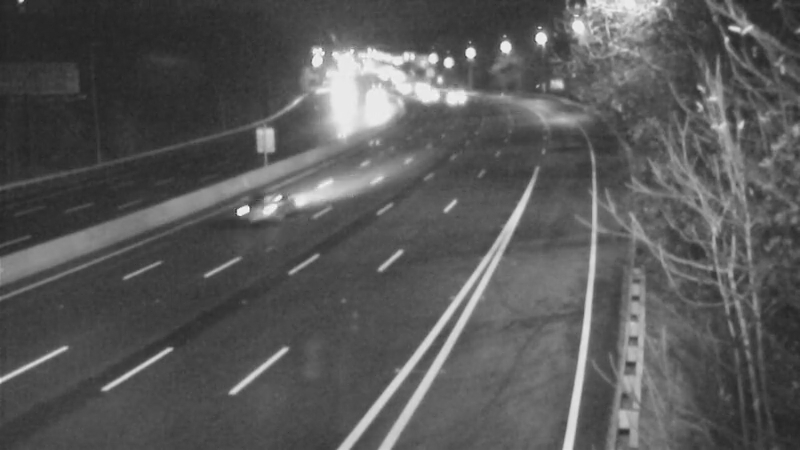vehicle: (219, 170, 299, 250), (403, 69, 453, 119), (429, 71, 479, 121), (341, 66, 391, 116)
